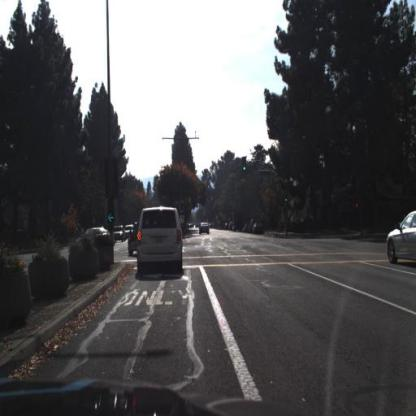car: (134, 205, 186, 279), (386, 204, 416, 268), (127, 215, 141, 261), (79, 221, 107, 242), (200, 218, 213, 239), (199, 220, 212, 238)
trafficLight-Green: (241, 155, 250, 176), (243, 158, 248, 175), (284, 192, 289, 206)
trafficLight-GreenLeft: (108, 201, 117, 226)
